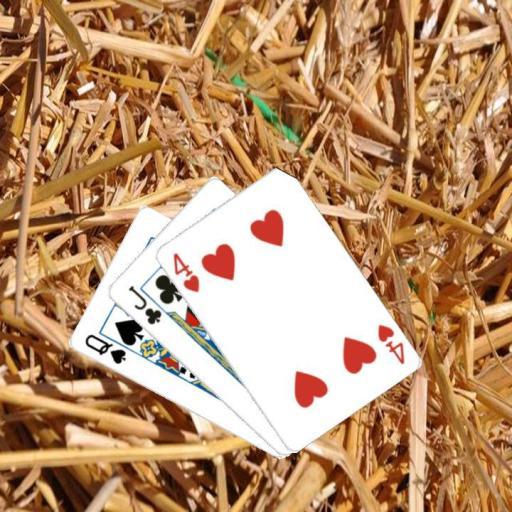4H: (373, 321, 406, 366), (169, 249, 201, 294)
JC: (124, 283, 163, 327)
QS: (81, 331, 127, 366)
